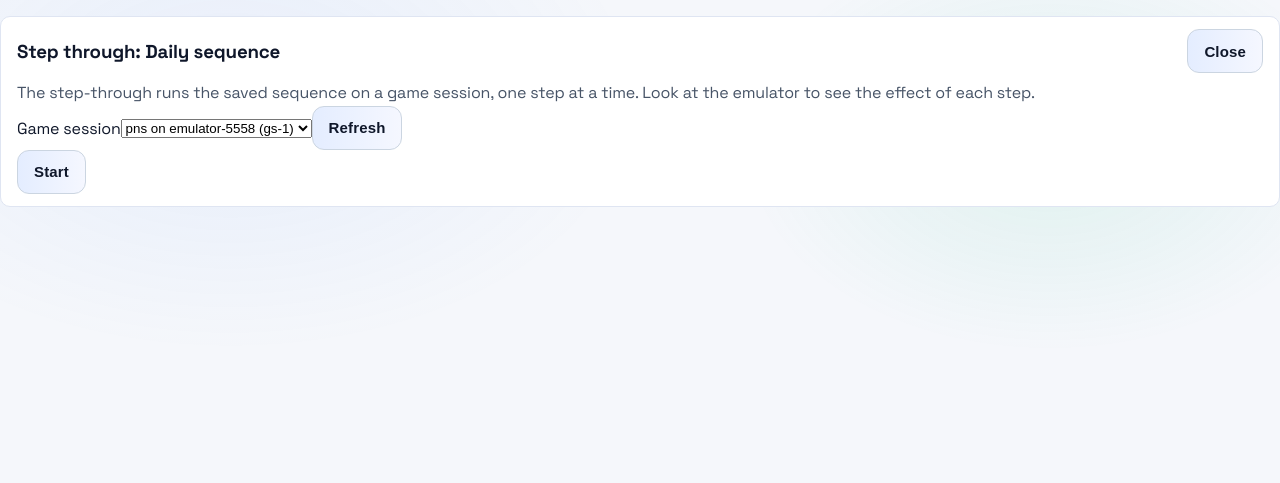
it: StepThroughPanel history, restart, values, and queue › restarts and shows the cleared history
Click the button "Start".
click(51, 172)  # box top-left (17, 150), bottom-right (86, 194)
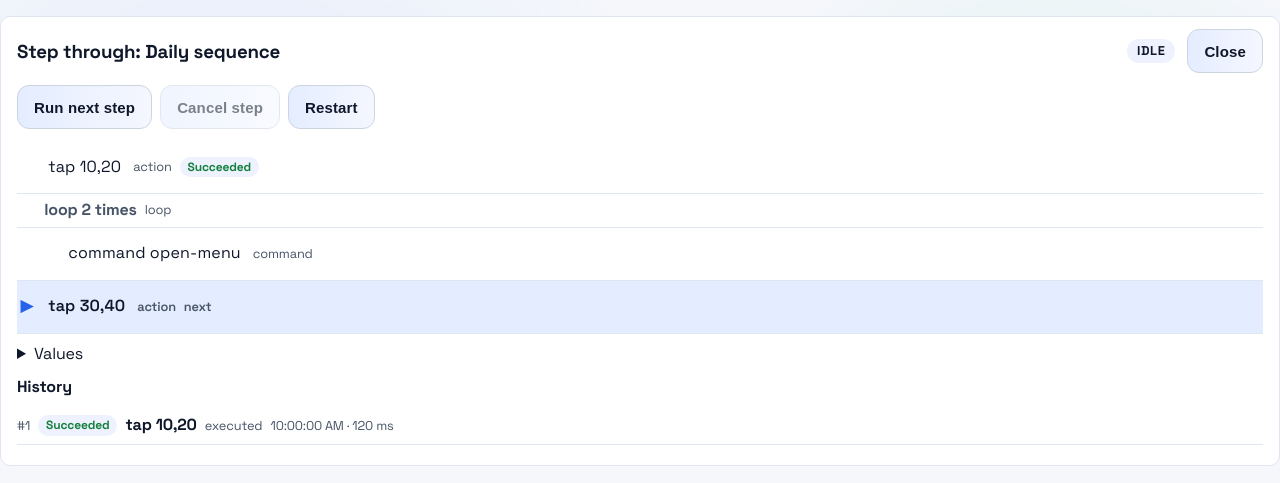
Now the list named "Steps" is shown, box top-left (17, 141), bottom-right (1263, 334)
Click the button "Restart".
click(331, 107)  # box top-left (288, 85), bottom-right (375, 129)
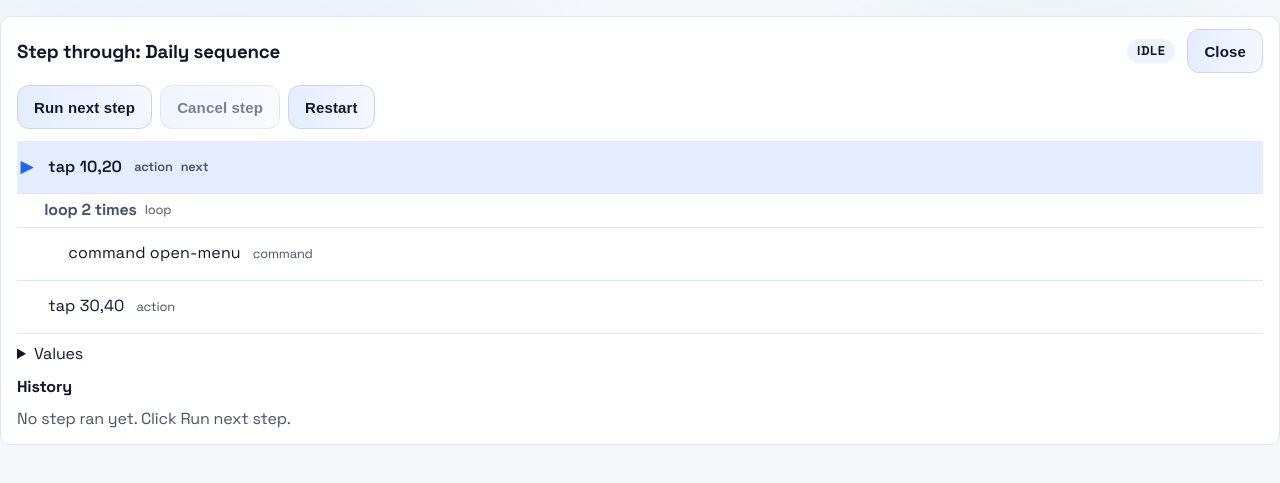
Now the text "No step ran yet. Click Run next step." is shown, box top-left (17, 408), bottom-right (291, 429)
